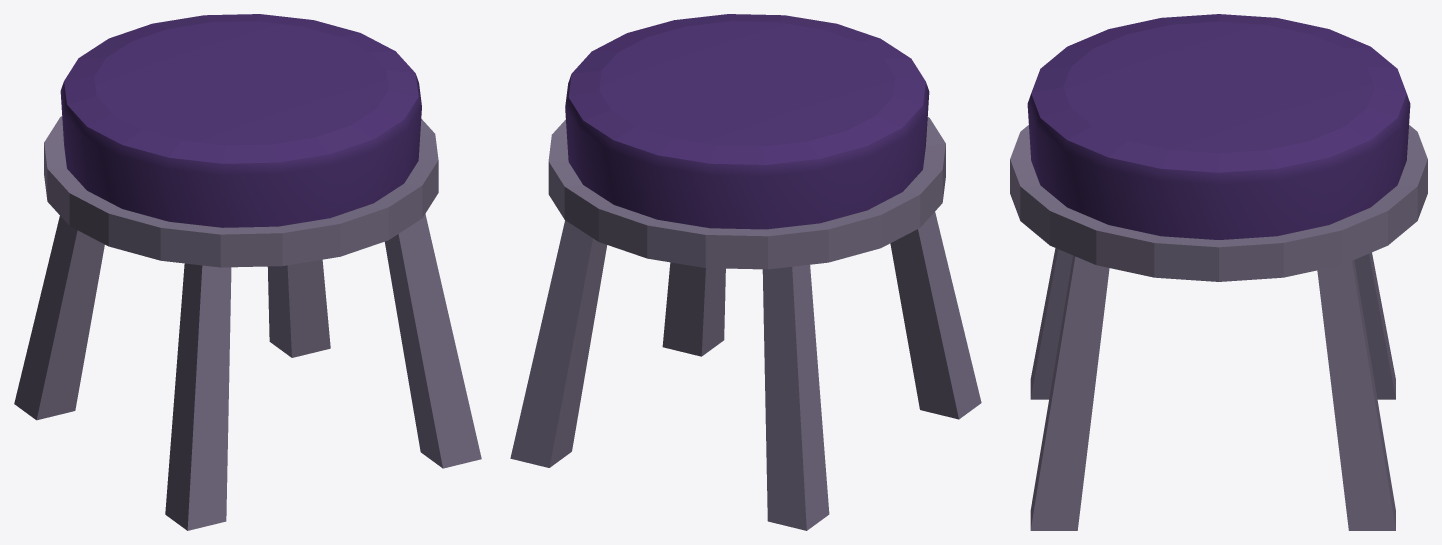
The model's file is Stool.fbx.
The picture shows the model from 3 angles, left to right: view 1: azimuth 30°, elevation 25°; view 2: azimuth 150°, elevation 25°; view 3: azimuth 270°, elevation 25°; orthographic projection. The views are drawn at different scales.
Parts seen in each view (by area): view 1: Stool; view 2: Stool; view 3: Stool.
Boxes of the visible parts, left/top/right/bottom form: Stool: left=14, top=14, right=481, bottom=530; Stool: left=510, top=14, right=981, bottom=530; Stool: left=1010, top=14, right=1427, bottom=530.
Bounding box in the file's own units: 0.763 × 0.7372 × 0.763.
